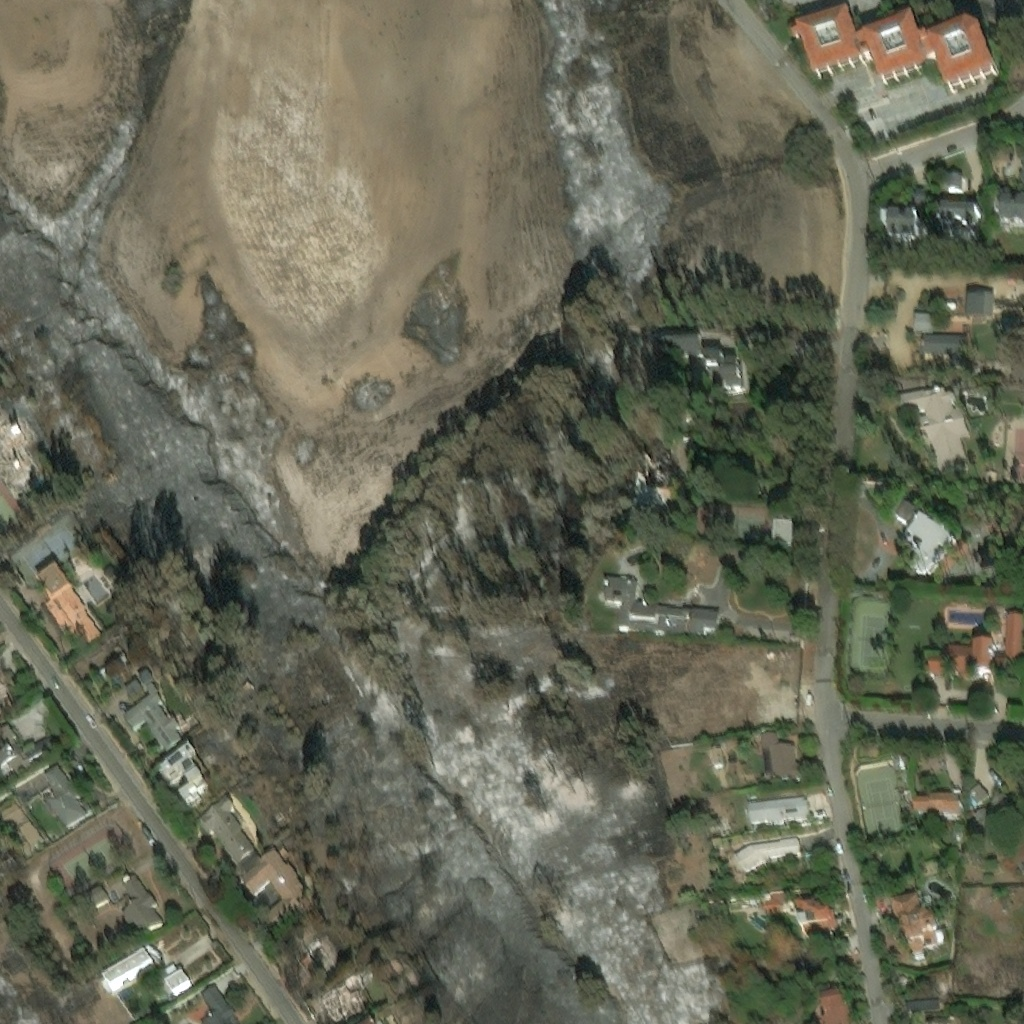0 no-damage: (602, 576, 720, 634), (898, 384, 970, 474), (926, 612, 1023, 676), (121, 681, 201, 754), (35, 565, 101, 652), (239, 848, 311, 927), (194, 791, 262, 872), (791, 4, 866, 75), (921, 20, 998, 89), (858, 10, 930, 80), (761, 883, 840, 934), (887, 891, 946, 958), (55, 565, 107, 635), (899, 513, 954, 578), (42, 764, 93, 828), (157, 744, 207, 808), (243, 863, 294, 919), (628, 456, 672, 519), (120, 873, 163, 935), (758, 731, 804, 784), (743, 791, 808, 828), (970, 788, 1020, 835), (735, 834, 798, 866), (102, 947, 152, 987), (197, 979, 239, 1023), (738, 843, 799, 873), (9, 697, 46, 743), (816, 985, 858, 1023), (108, 960, 155, 993), (937, 202, 981, 235), (91, 654, 129, 685), (22, 730, 57, 763), (887, 208, 919, 242), (925, 785, 960, 815), (705, 358, 742, 385), (0, 722, 21, 769), (998, 193, 1023, 226), (7, 694, 41, 718), (963, 286, 993, 313), (920, 334, 964, 352), (701, 344, 737, 362), (965, 780, 989, 806), (163, 966, 189, 990), (895, 501, 919, 525), (84, 884, 108, 908), (0, 677, 16, 711), (655, 338, 699, 350), (773, 522, 795, 546), (904, 998, 939, 1012), (911, 308, 931, 329), (122, 679, 143, 699), (920, 329, 964, 338), (654, 332, 698, 340), (950, 821, 962, 847), (710, 745, 724, 766), (925, 1016, 963, 1023), (911, 793, 927, 809), (171, 979, 190, 992), (138, 670, 154, 685), (947, 172, 961, 189), (99, 974, 111, 993), (913, 187, 926, 202), (915, 218, 925, 236), (881, 210, 887, 227), (993, 197, 999, 214)
3 destroyed: (314, 967, 364, 1023), (292, 927, 340, 983), (0, 404, 33, 483)
